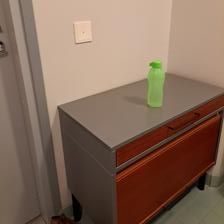bottle: (145, 58, 167, 107)
